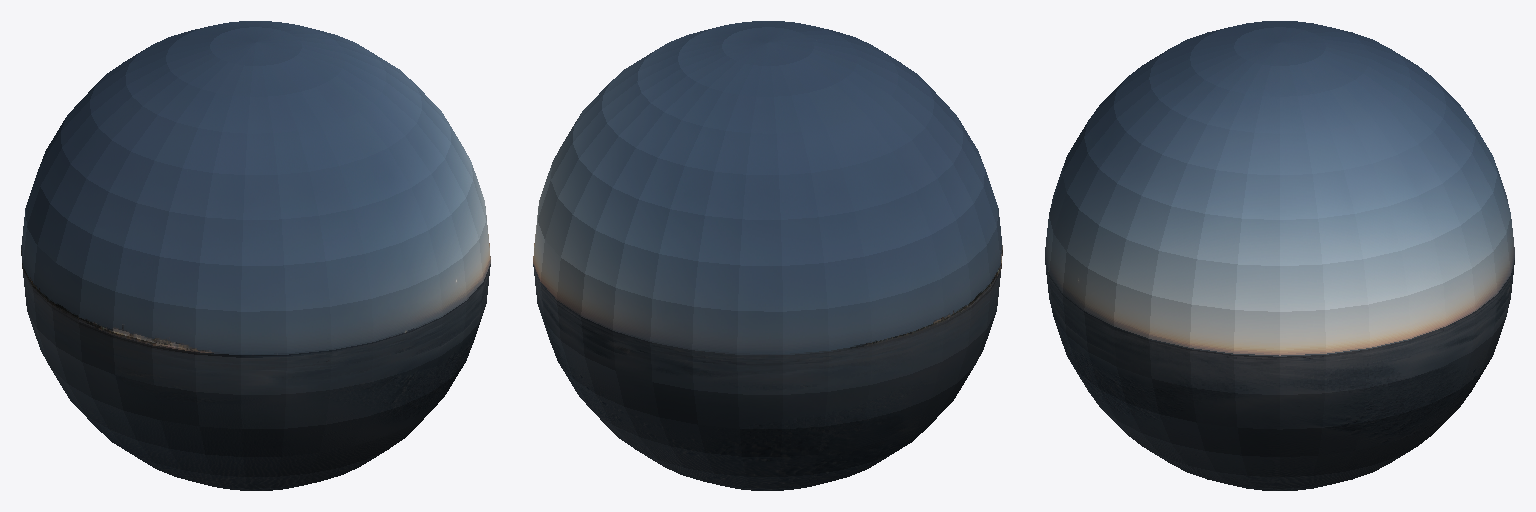
3 views of the same model, side by side, from view 1: azimuth 30°, elevation 25°; view 2: azimuth 150°, elevation 25°; view 3: azimuth 270°, elevation 25° (orthographic).
Visible parts, largest first — view 1: 球; view 2: 球; view 3: 球.
Boxes of the visible parts, <box> form: 球: <box>21,21,490,490</box>; 球: <box>533,21,1002,490</box>; 球: <box>1045,21,1514,490</box>.
Size of the model in its own units: 2 by 2 by 2.
1 materials, 1 textured.